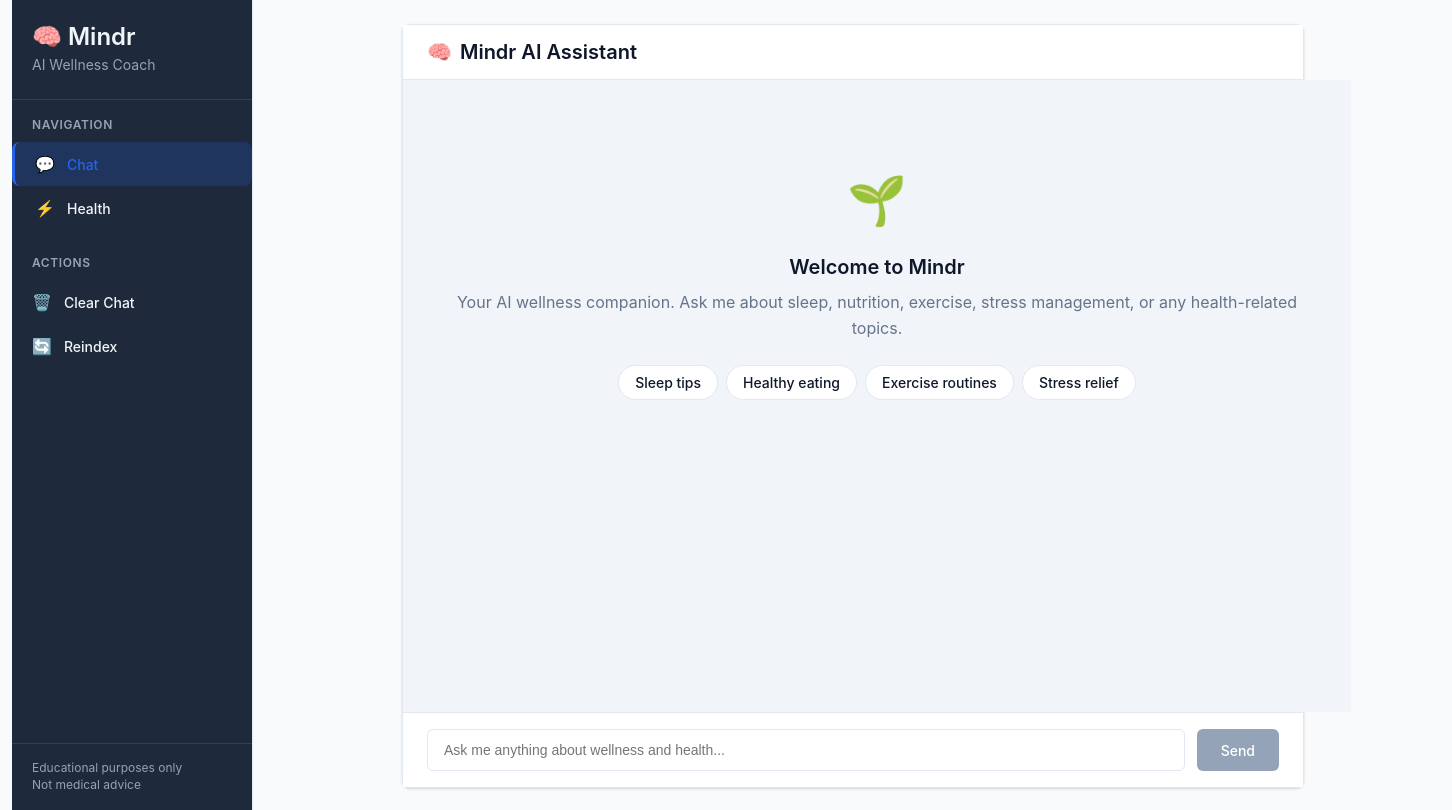
Test: Health Component › shows correct status indicator for unhealthy system
This screenshot has width=1452, height=810.
Click the button "⚡ Health". click: [132, 208]
box: [12,186,252,230]
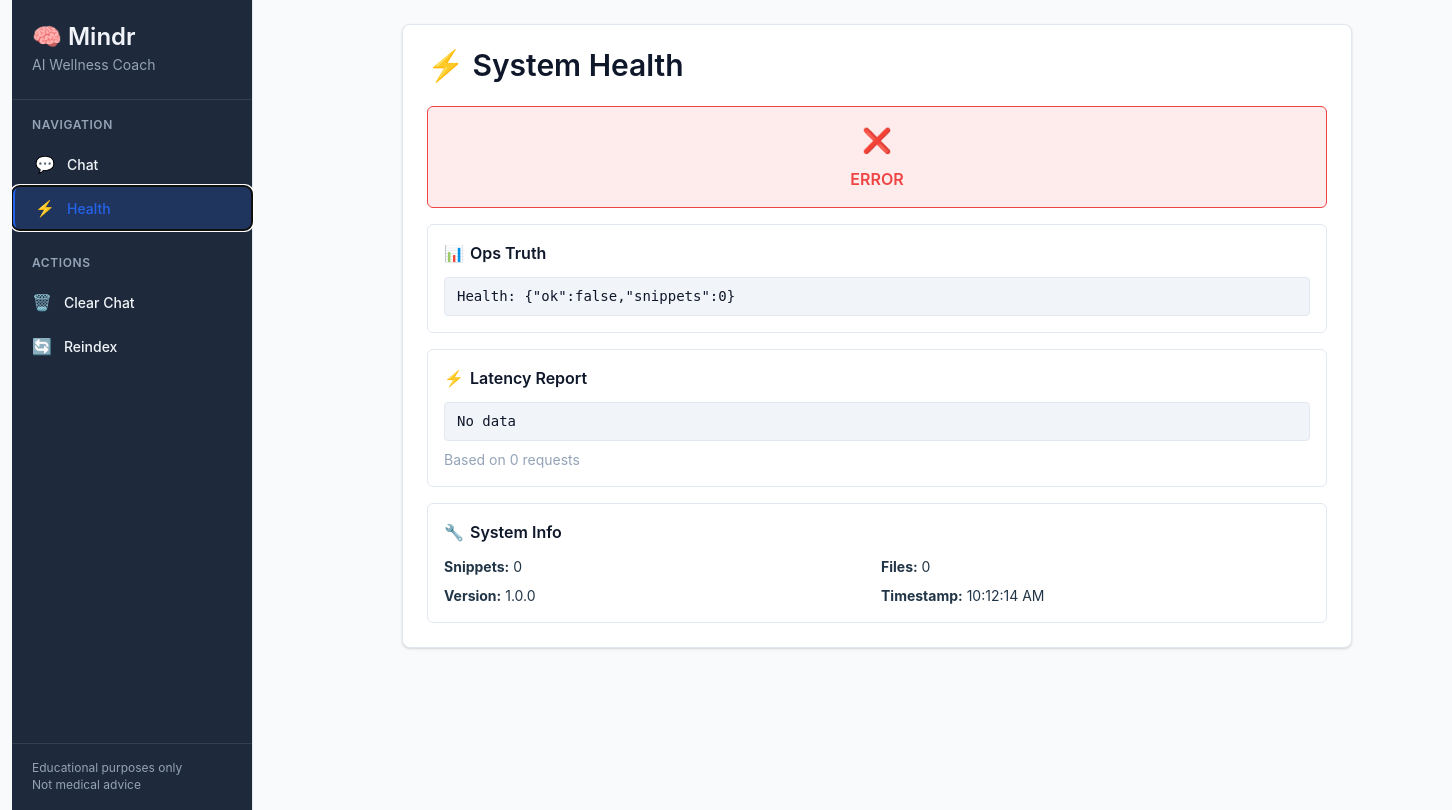
Expected: the text "❌" is shown, [862,126,892,155]
Expected: the text "ERROR" is shown, [850,169,904,189]
